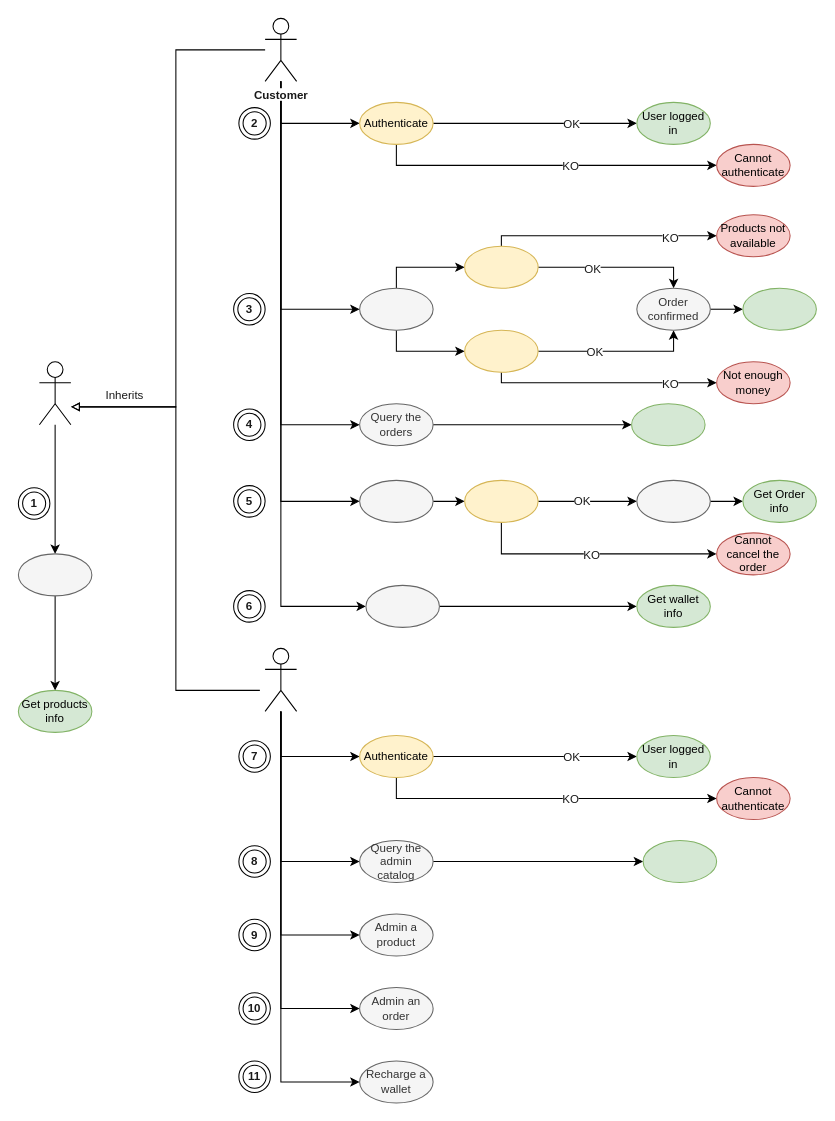
This 835x1121 diagram has some shape labels left out. The shapes that lost their labels are listed below. From the top down, each one's box as (x1, y1, x2, y2) in pixels, then its label:
(464, 245, 538, 288): Check products
(359, 287, 433, 330): Create order
(742, 287, 816, 330): Get Order identifier
(464, 329, 538, 372): Check wallet
(38, 361, 71, 425): Anonymous reader
(631, 403, 705, 446): Get Delivery-wise orders
(359, 479, 433, 522): Delete order
(464, 479, 538, 522): Check order status
(636, 479, 710, 522): Order canceled
(17, 553, 92, 596): Query the catalog
(365, 584, 439, 627): Query the wallet
(264, 647, 297, 711): Admin
(642, 839, 717, 883): Get admin products info
